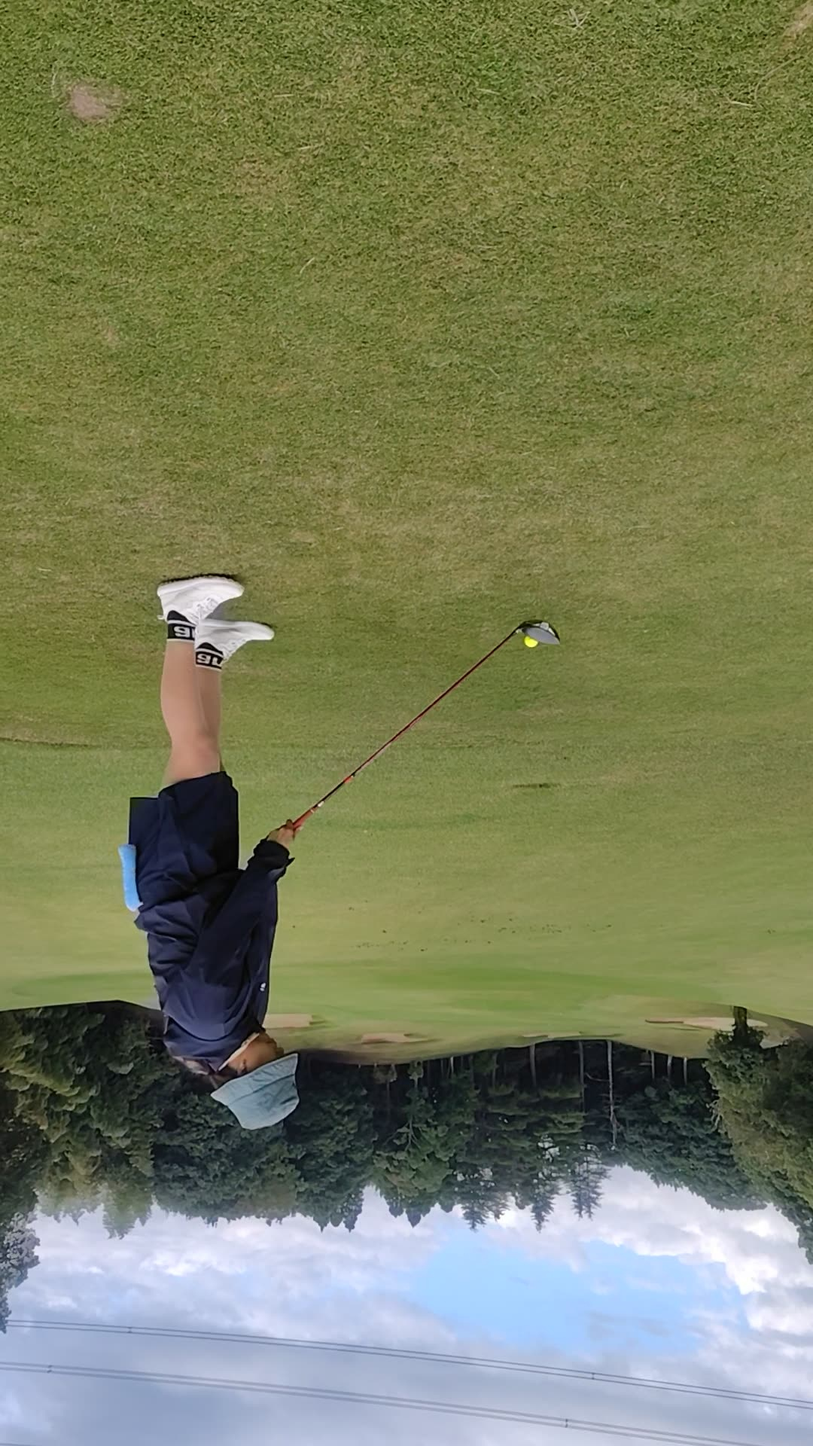clubhead: (446, 574, 642, 692)
